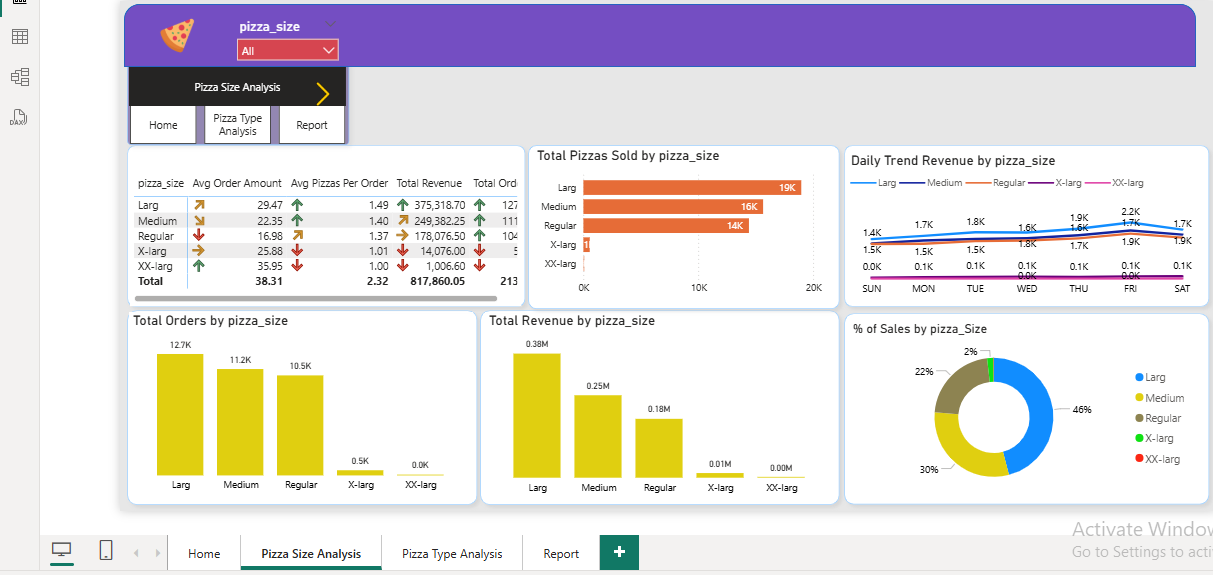

The page's visual inventory and layout, read from the dashboard file:
{"tool":"powerbi","page":{"name":" Pizza Size Analysis","canvas":[1370,638],"ordinal":1},"visuals":[{"type":"shape","box":[0,377.1,455.7,261.4],"z":0},{"type":"columnChart","fields":{"Category":["bizza data set end to end project -.pizza_size"],"Y":["bizza data set end to end project -.Total Orders"]},"box":[11.4,388.6,430,234.3],"z":1000},{"type":"shape","box":[895.7,171.4,474.3,220],"z":2000},{"type":"shape","box":[441.4,377.1,467.1,261.4],"z":3000},{"type":"columnChart","fields":{"Y":["bizza data set end to end project -.Total Revenue"],"Category":["bizza data set end to end project -.pizza_size"]},"box":[455.7,388.6,437.1,237.1],"z":4000},{"type":"shape","box":[0,171.4,515.7,220],"z":5000},{"type":"lineChart","title":"Daily Trend Revenue by pizza_size","fields":{"Category":["bizza data set end to end project -.order day"],"Series":["bizza data set end to end project -.pizza_size"],"Y":["bizza data set end to end project -.Total Orders"]},"box":[908.6,188.6,450,188.6],"z":6000},{"type":"pivotTable","fields":{"Values":["bizza data set end to end project -.Average Order Value","bizza data set end to end project -.Average Pizzas Per Order","bizza data set end to end project -.Total Revenue","bizza data set end to end project -.Total Orders"],"Rows":["bizza data set end to end project -.pizza_size"]},"box":[12.9,212.9,488.6,168.6],"z":7000},{"type":"shape","box":[895.7,381.4,474.3,257.1],"z":8000},{"type":"donutChart","title":"% of Sales by pizza_Size","fields":{"Y":["bizza data set end to end project -.Total Revenue"],"Category":["bizza data set end to end project -.pizza_size"]},"box":[911.4,400,434.3,222.9],"z":9000},{"type":"cardVisual","fields":{"Data":["bizza data set end to end project -.Total Revenue","bizza data set end to end project -.Average Order Value","bizza data set end to end project -.Total Pizzas Sold","bizza data set end to end project -.Total Orders","bizza data set end to end project -.Average Pizzas Per Order"]},"box":[283.5,82.3,1086.1,101.3],"z":10000},{"type":"shape","box":[0,65.7,295.7,122.9],"z":11000},{"type":"pageNavigator","box":[12.9,128.6,270,50],"z":12000},{"type":"pageNavigator","box":[11.4,81.4,271.4,50],"z":13000},{"type":"shape","box":[5,3.8,1340,78.8],"z":14000},{"type":"shape","box":[501.4,171.4,407.1,222.9],"z":15000},{"type":"image","box":[234.3,91.4,40,50],"z":16000},{"type":"slicer","fields":{"Values":["bizza data set end to end project -.pizza_size"]},"box":[135.7,15.7,147.1,64.3],"z":17000},{"type":"clusteredBarChart","fields":{"Y":["bizza data set end to end project -.Total Pizzas Sold"],"Category":["bizza data set end to end project -.pizza_size"]},"box":[515.7,182.9,377.1,194.3],"z":18000},{"type":"image","box":[32.9,15.7,77.1,54.3],"z":19000}]}

Visuals, with their boxes on the page's 1370x638 design canvas (x1, y1, x2, y2). These are canvas units, not pixel positions in the 1213x575 screenshot, which may show the page scaled, cropped or inside an application window:
shape: 0,377,456,638
columnChart - bizza data set end to end project -.pizza_size x bizza data set end to end project -.Total Orders: 11,389,441,623
shape: 896,171,1370,391
shape: 441,377,908,638
columnChart - bizza data set end to end project -.Total Revenue x bizza data set end to end project -.pizza_size: 456,389,893,626
shape: 0,171,516,391
"Daily Trend Revenue by pizza_size" lineChart: 909,189,1359,377
pivotTable - bizza data set end to end project -.Average Order Value x bizza data set end to end project -.Average Pizzas Per Order: 13,213,502,382
shape: 896,381,1370,638
"% of Sales by pizza_Size" donutChart: 911,400,1346,623
cardVisual - bizza data set end to end project -.Total Revenue x bizza data set end to end project -.Average Order Value: 284,82,1370,184
shape: 0,66,296,189
pageNavigator: 13,129,283,179
pageNavigator: 11,81,283,131
shape: 5,4,1345,83
shape: 501,171,908,394
image: 234,91,274,141
slicer - bizza data set end to end project -.pizza_size: 136,16,283,80
clusteredBarChart - bizza data set end to end project -.Total Pizzas Sold x bizza data set end to end project -.pizza_size: 516,183,893,377
image: 33,16,110,70
